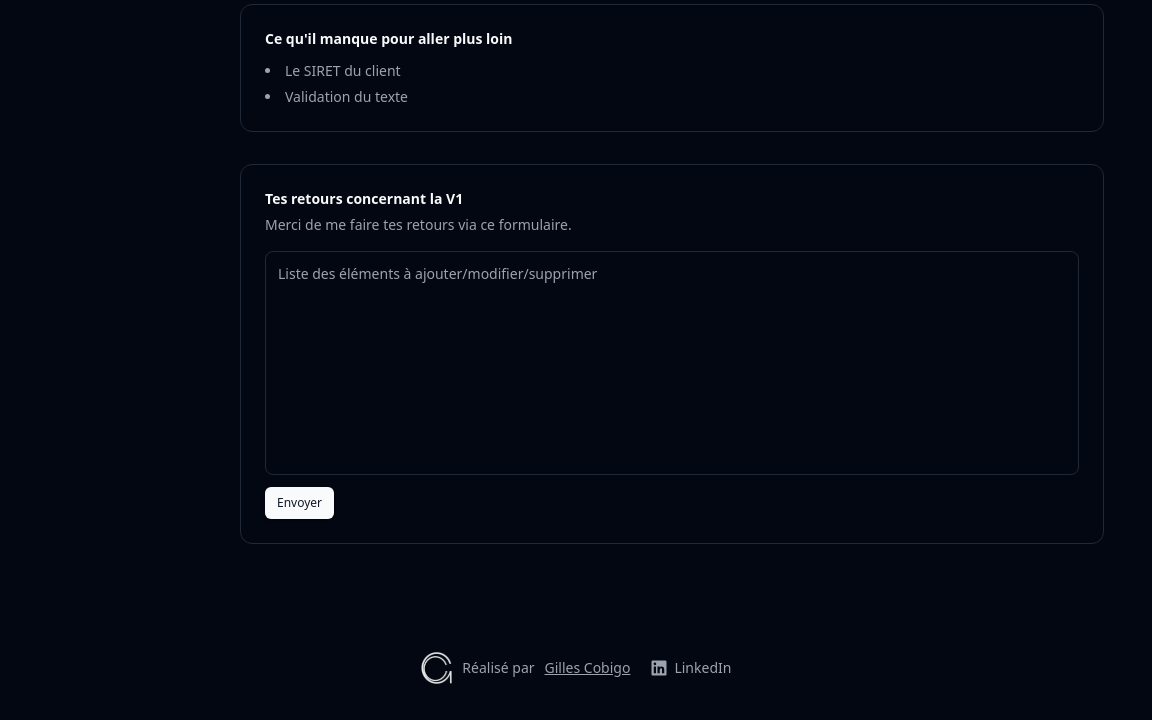
Test: PreviewRound › shows an error message when the feedback submission fails
(page scrolled)
Type "Change le titre" into the text box with placeholder "Liste des éléments à ajouter/modifier/supprimer".
click(672, 363); type("Change le titre")  # box [265,251,1079,475]
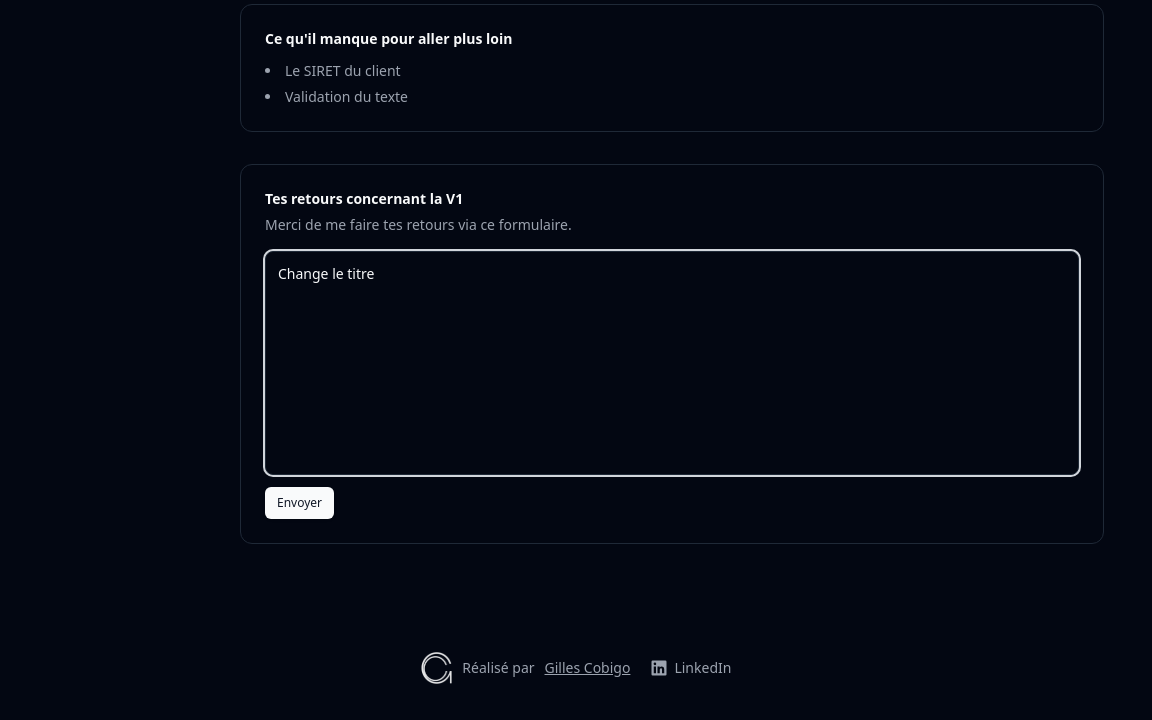
Click the button "Envoyer".
click(300, 503)  # box [265,487,334,519]
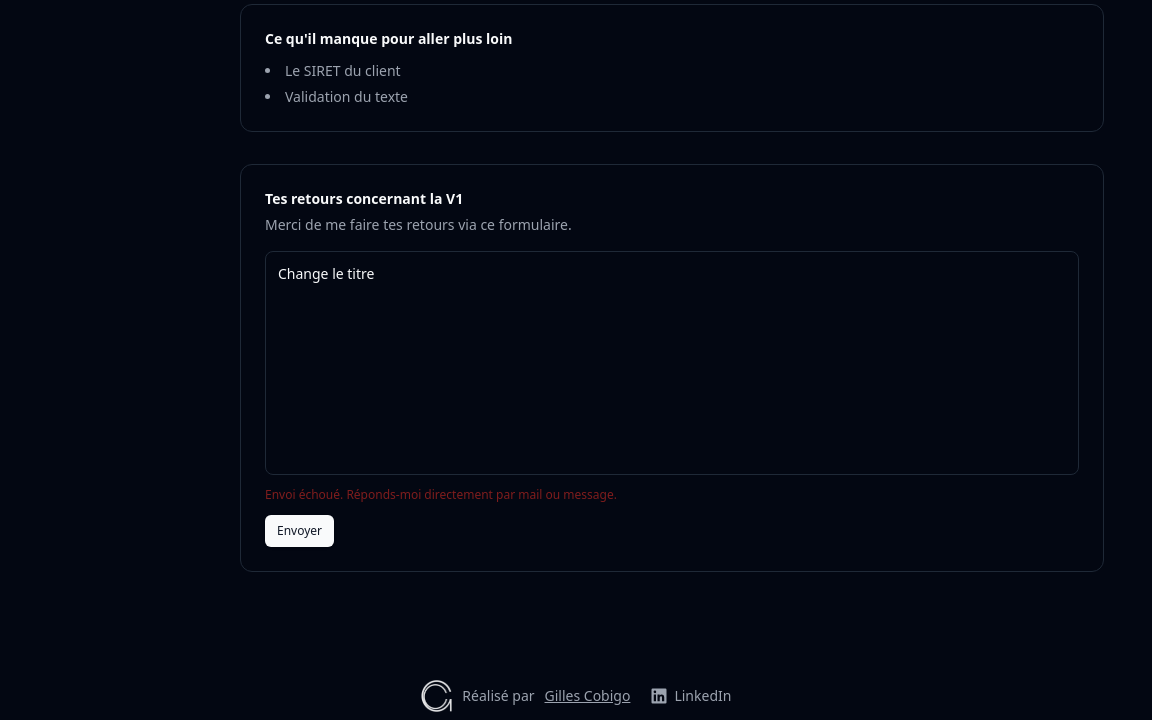
Expected: the text "Envoi échoué. Réponds-moi directement par mail ou message." is shown, [265,486,617,503]
